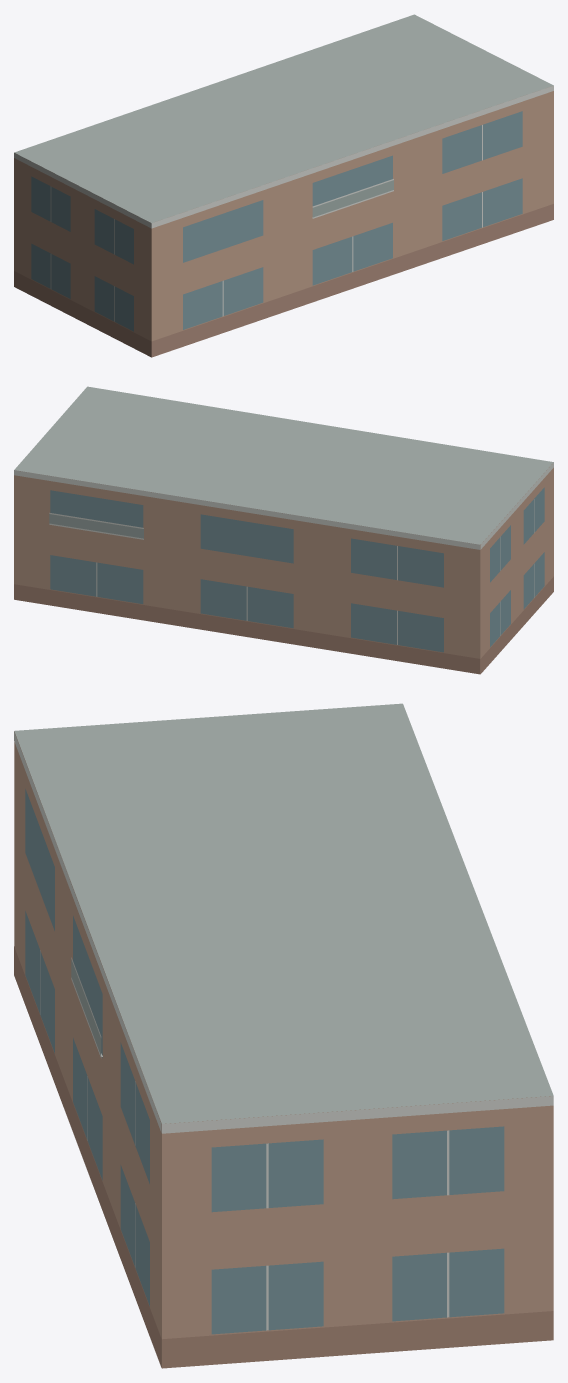
File: survey-upis-33023433.glb
The picture shows the model from 3 angles, top to bottom: view 1: azimuth 30°, elevation 25°; view 2: azimuth 150°, elevation 25°; view 3: azimuth 270°, elevation 25°; orthographic projection. The views are drawn at different scales.
Parts seen in each view (by area): view 1: survey-upis-33023433.tmp; view 2: survey-upis-33023433.tmp; view 3: survey-upis-33023433.tmp.
Part boxes in pixels (x1=…): survey-upis-33023433.tmp: x1=14, y1=14, x2=553, y2=357; survey-upis-33023433.tmp: x1=14, y1=386, x2=553, y2=674; survey-upis-33023433.tmp: x1=14, y1=703, x2=553, y2=1368.
Bounding box in the file's own units: 22.52 × 6.1 × 12.22.
